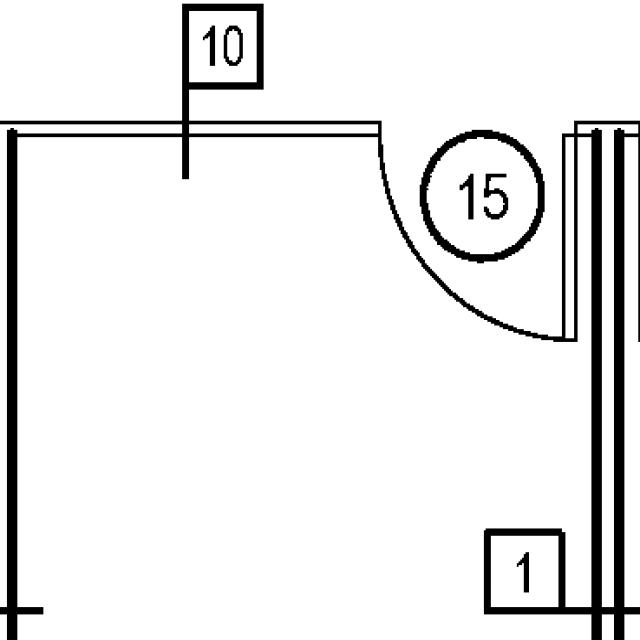Doors: (370, 115, 583, 349)
